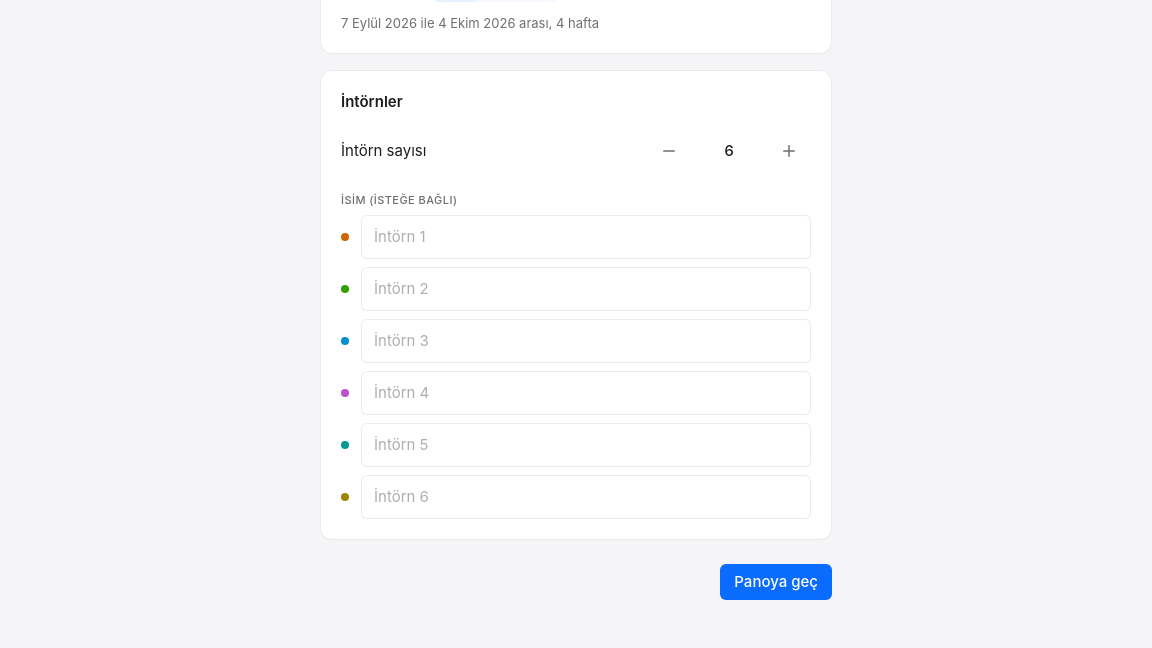
Test: resets › the list reset is unavailable while there is no name to clear
(page scrolled)
Click the button "Panoya geç" at [776, 582], box 720,564 -> 832,600
(page scrolled)
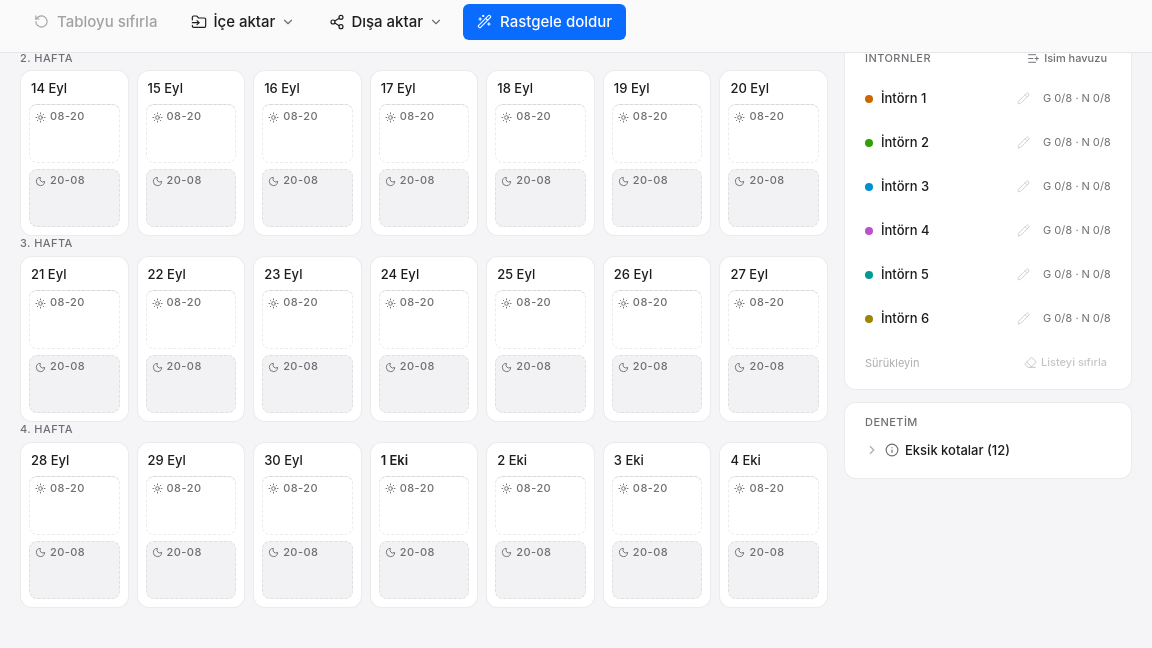
Expected: the button "Listeyi sıfırla" is disabled, 1016,349 -> 1115,377
